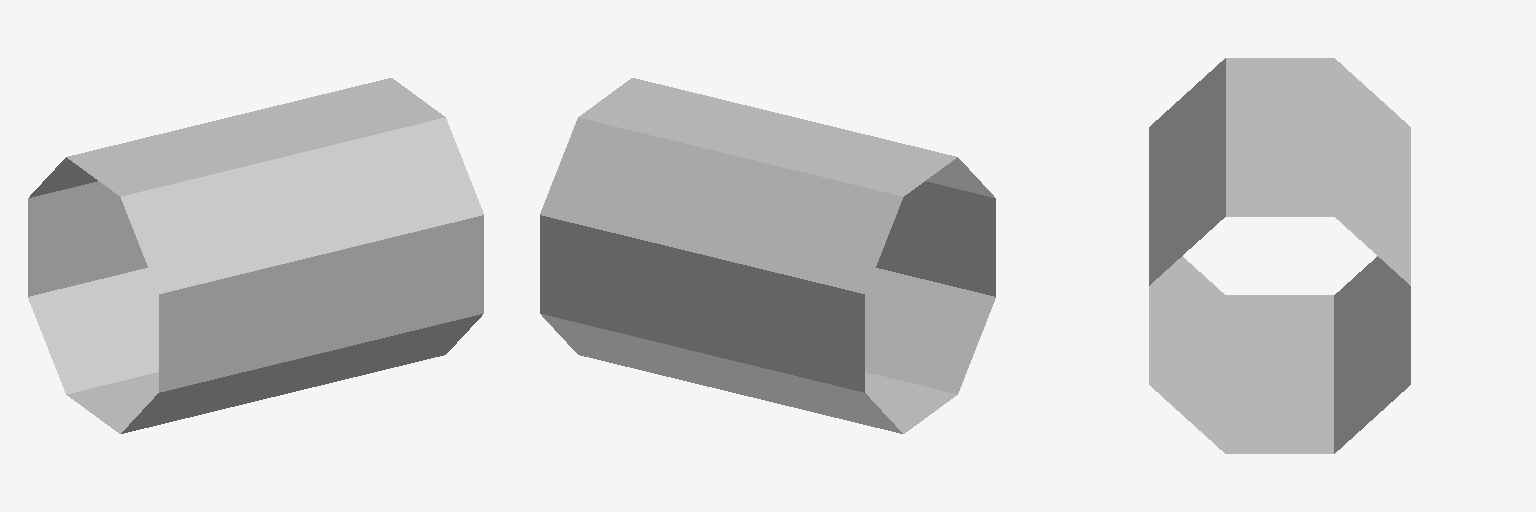
Rendered from pipe01.obj.
3 views of the same model, side by side, from view 1: azimuth 30°, elevation 25°; view 2: azimuth 150°, elevation 25°; view 3: azimuth 270°, elevation 25° (orthographic).
Visible parts, largest first — view 1: mesh01; view 2: mesh01; view 3: mesh01.
Part boxes in pixels (bbox=[...]): mesh01: bbox=[28, 78, 483, 433]; mesh01: bbox=[540, 78, 995, 433]; mesh01: bbox=[1149, 58, 1410, 453].
Size of the model in its own units: 1 by 0.697 by 0.697.